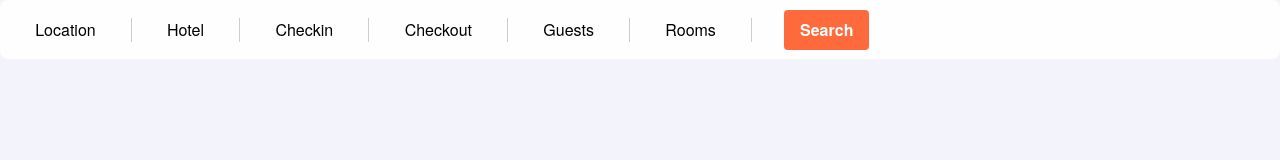
1) SearchBar Autocomplete › allows selecting a suggestion to fill the input
Click the button "Location".
click(65, 30)  # box top-left (16, 8), bottom-right (115, 51)
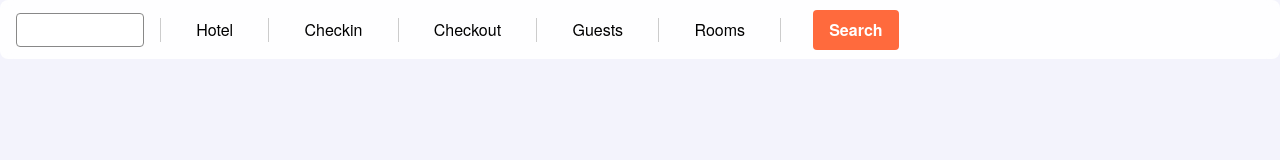
Type "Be" into the field.
click(80, 30); type("Be")  # box top-left (16, 13), bottom-right (144, 47)
Wait 300 ms
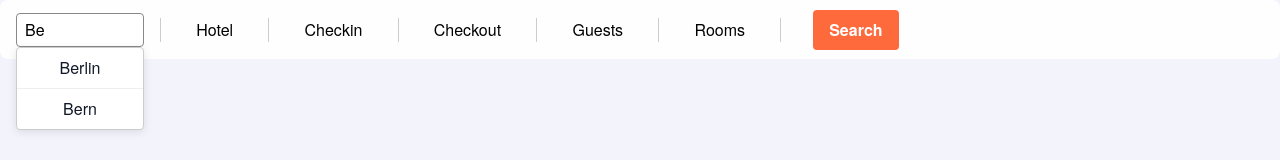
Result: the text "Berlin" is shown
Press the mouse on the text "Berlin" at (80,68), box top-left (17, 48), bottom-right (143, 89)
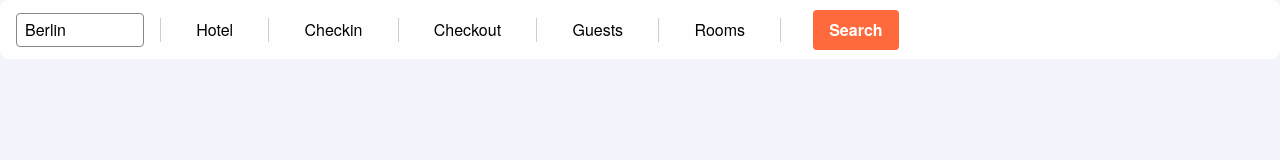
Result: the field holds "Berlin" at top-left (16, 13), bottom-right (144, 47)
Result: the text "Bern" is gone
